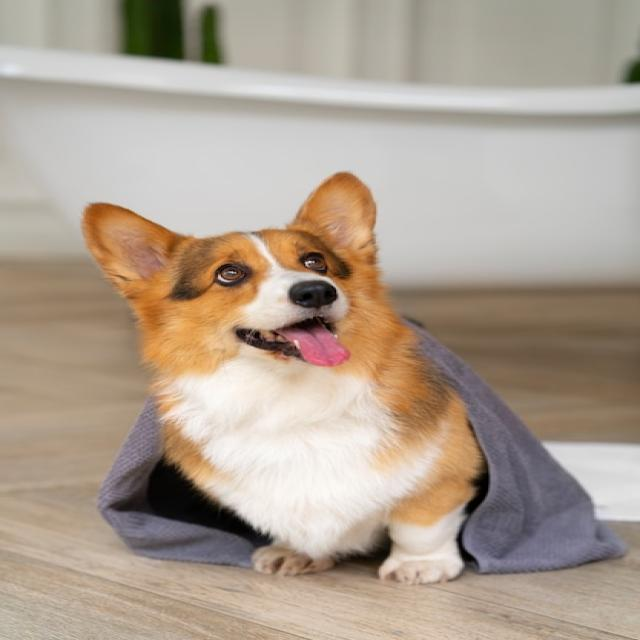Dog: (81, 171, 491, 584)
